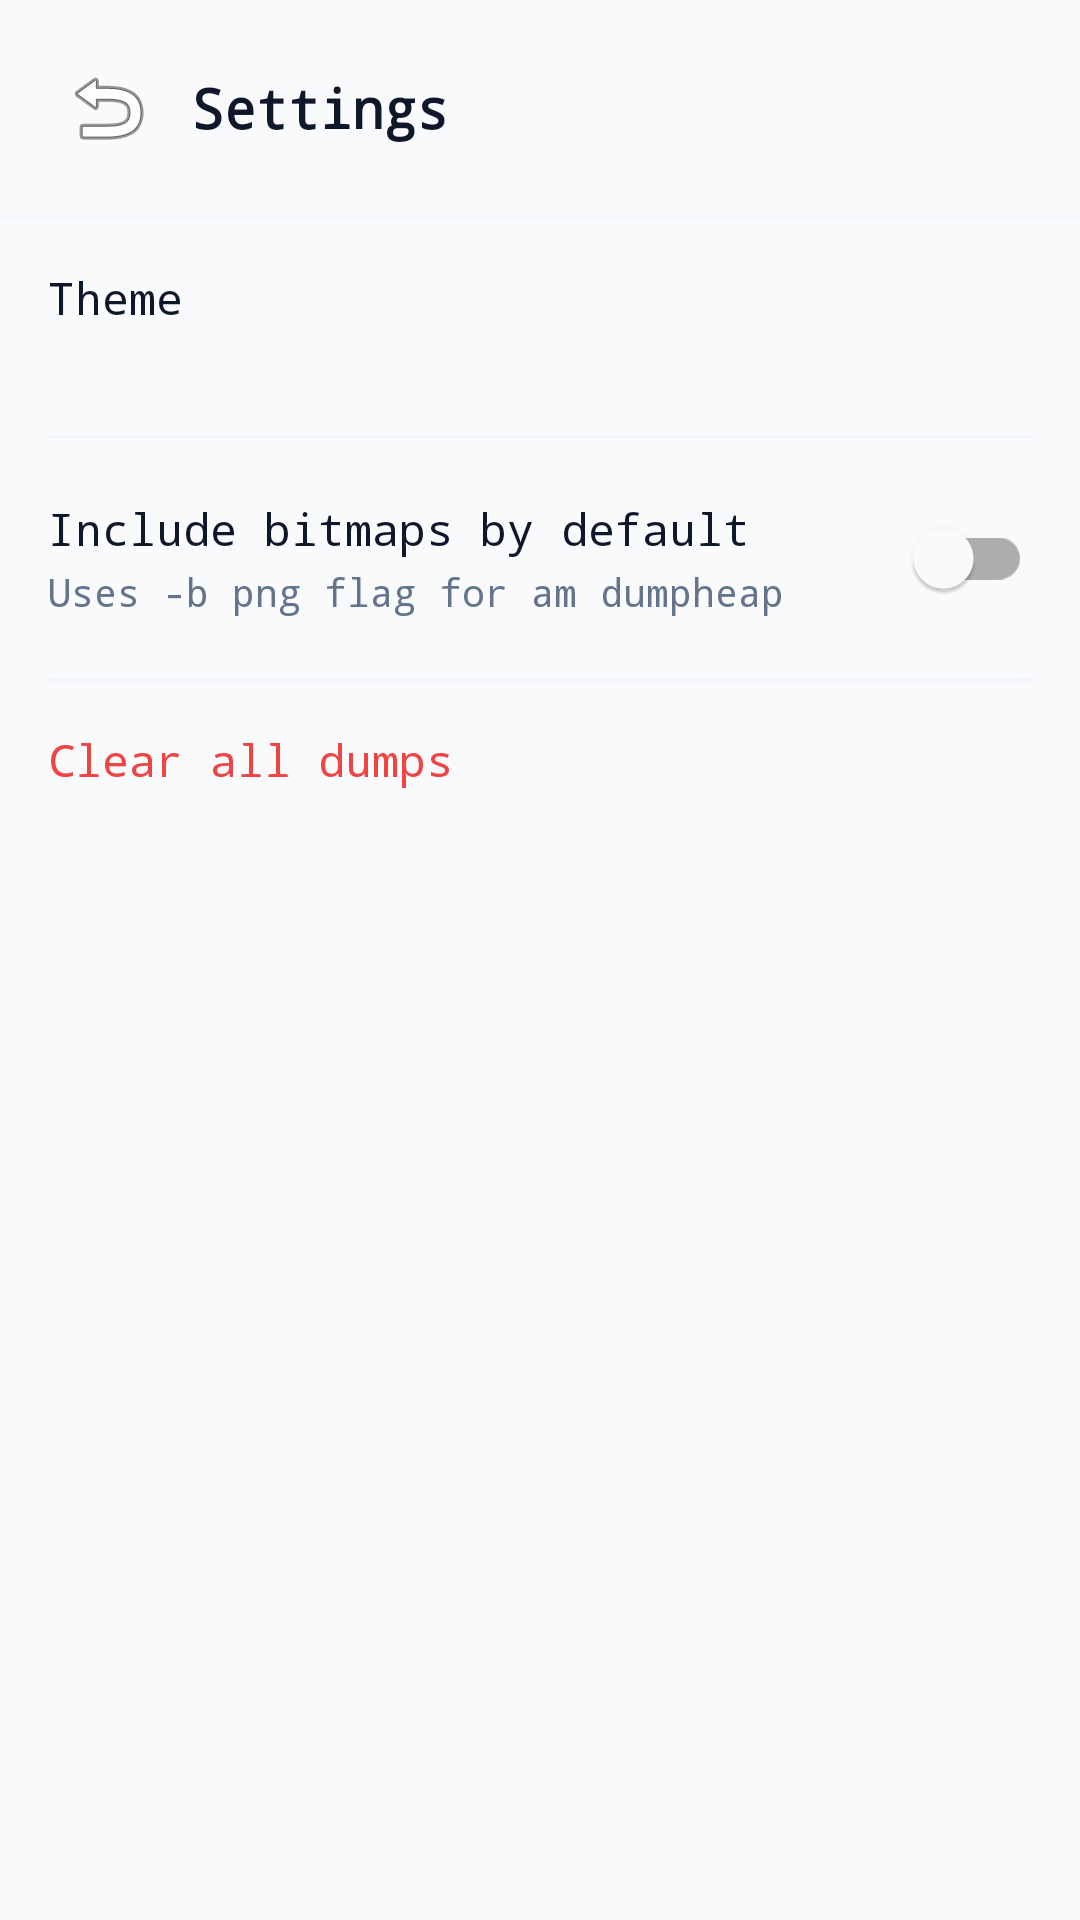

Where to tap for icons on this 1080px×1920px app screen, as point (x, y):
Back: point (109, 108)
